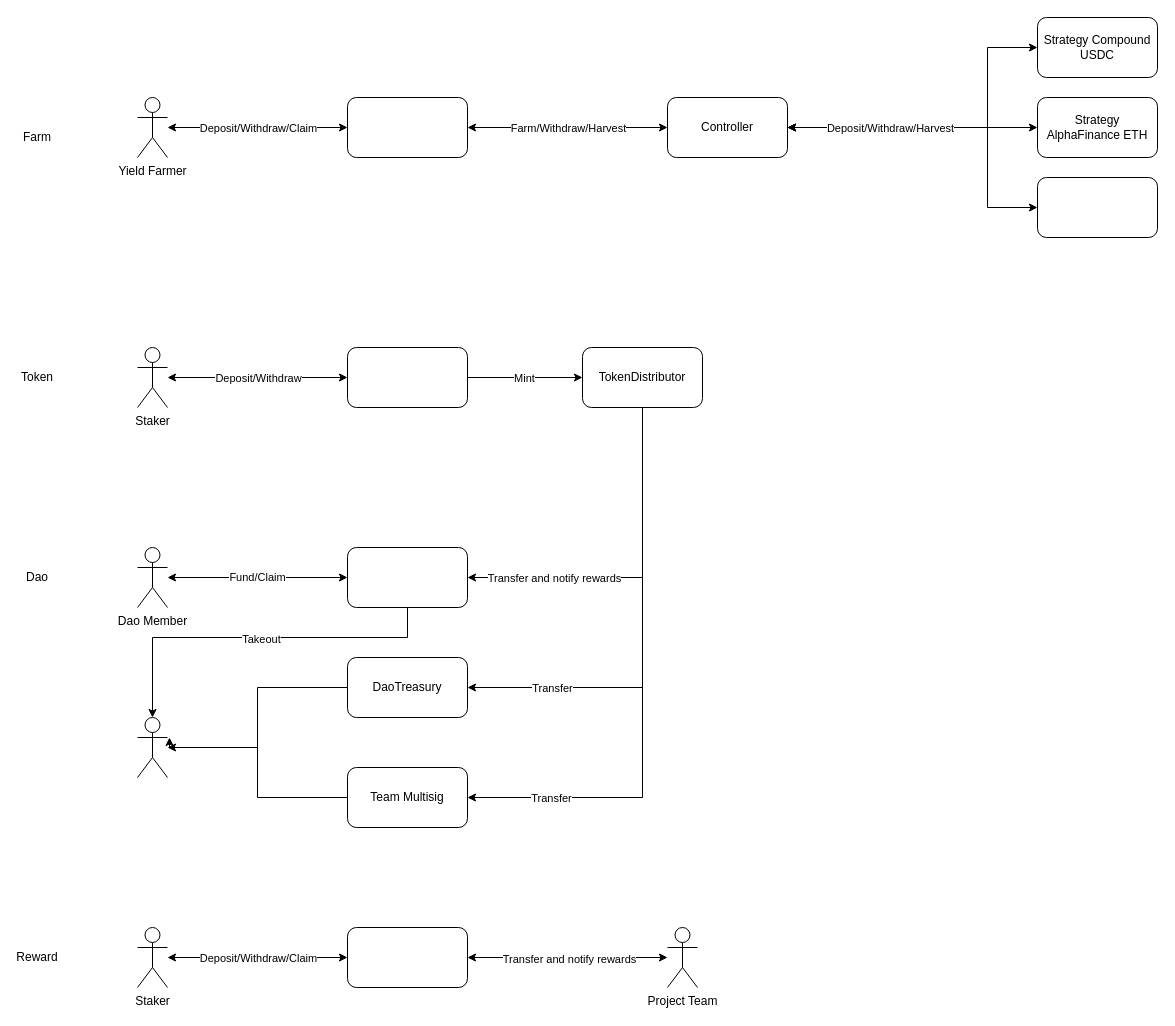
The diagram is 1175 pixels wide and 1026 high, and some of its shapes have lost their labels. The shapes that lost their labels are listed below. From the top down, each one's box as (x1, y1, x2, y2) in pixels, then its label:
(346, 96, 468, 158): Vault (ERC20)
(1036, 176, 1158, 238): Strategy Aave DAI
(346, 346, 468, 408): TokenMaster
(346, 546, 468, 608): DaoFunding
(136, 716, 168, 778): Team
(346, 926, 468, 988): StakingRewards
